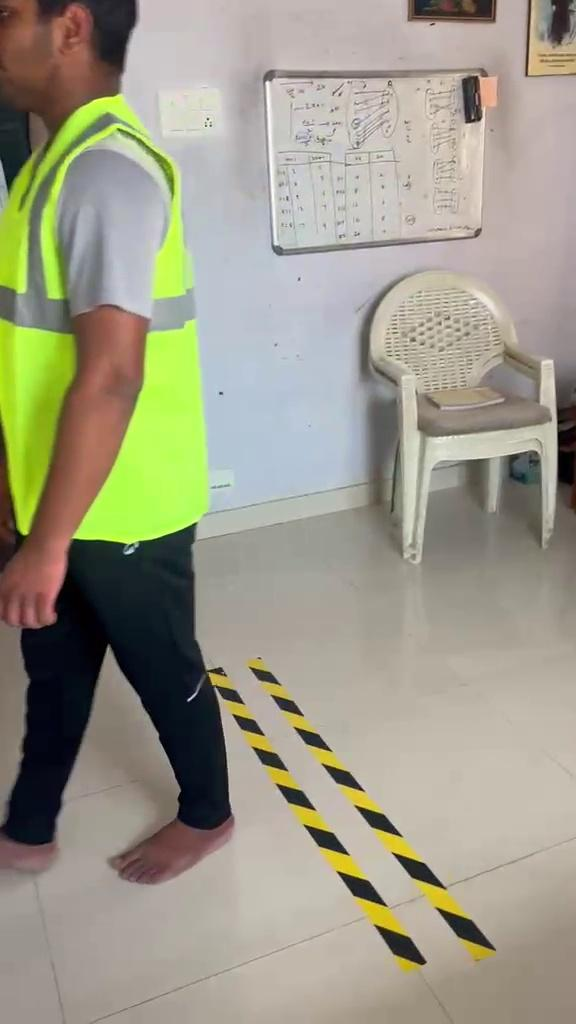BorderLine: (206, 656, 497, 974)
No_Helmet: (0, 0, 138, 111)
Person: (0, 0, 235, 886)
Vest: (0, 93, 210, 542)
